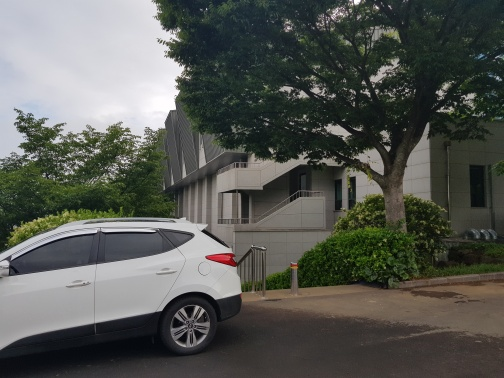Gym: (159, 75, 352, 228)
